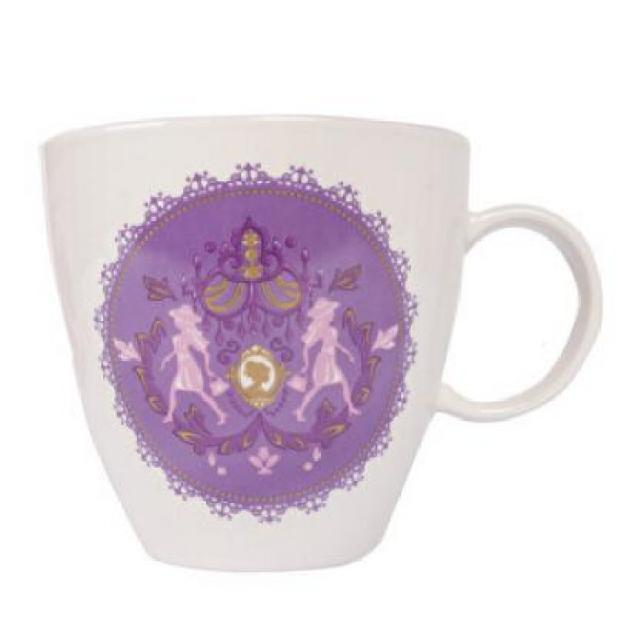taza: (39, 112, 600, 572)
